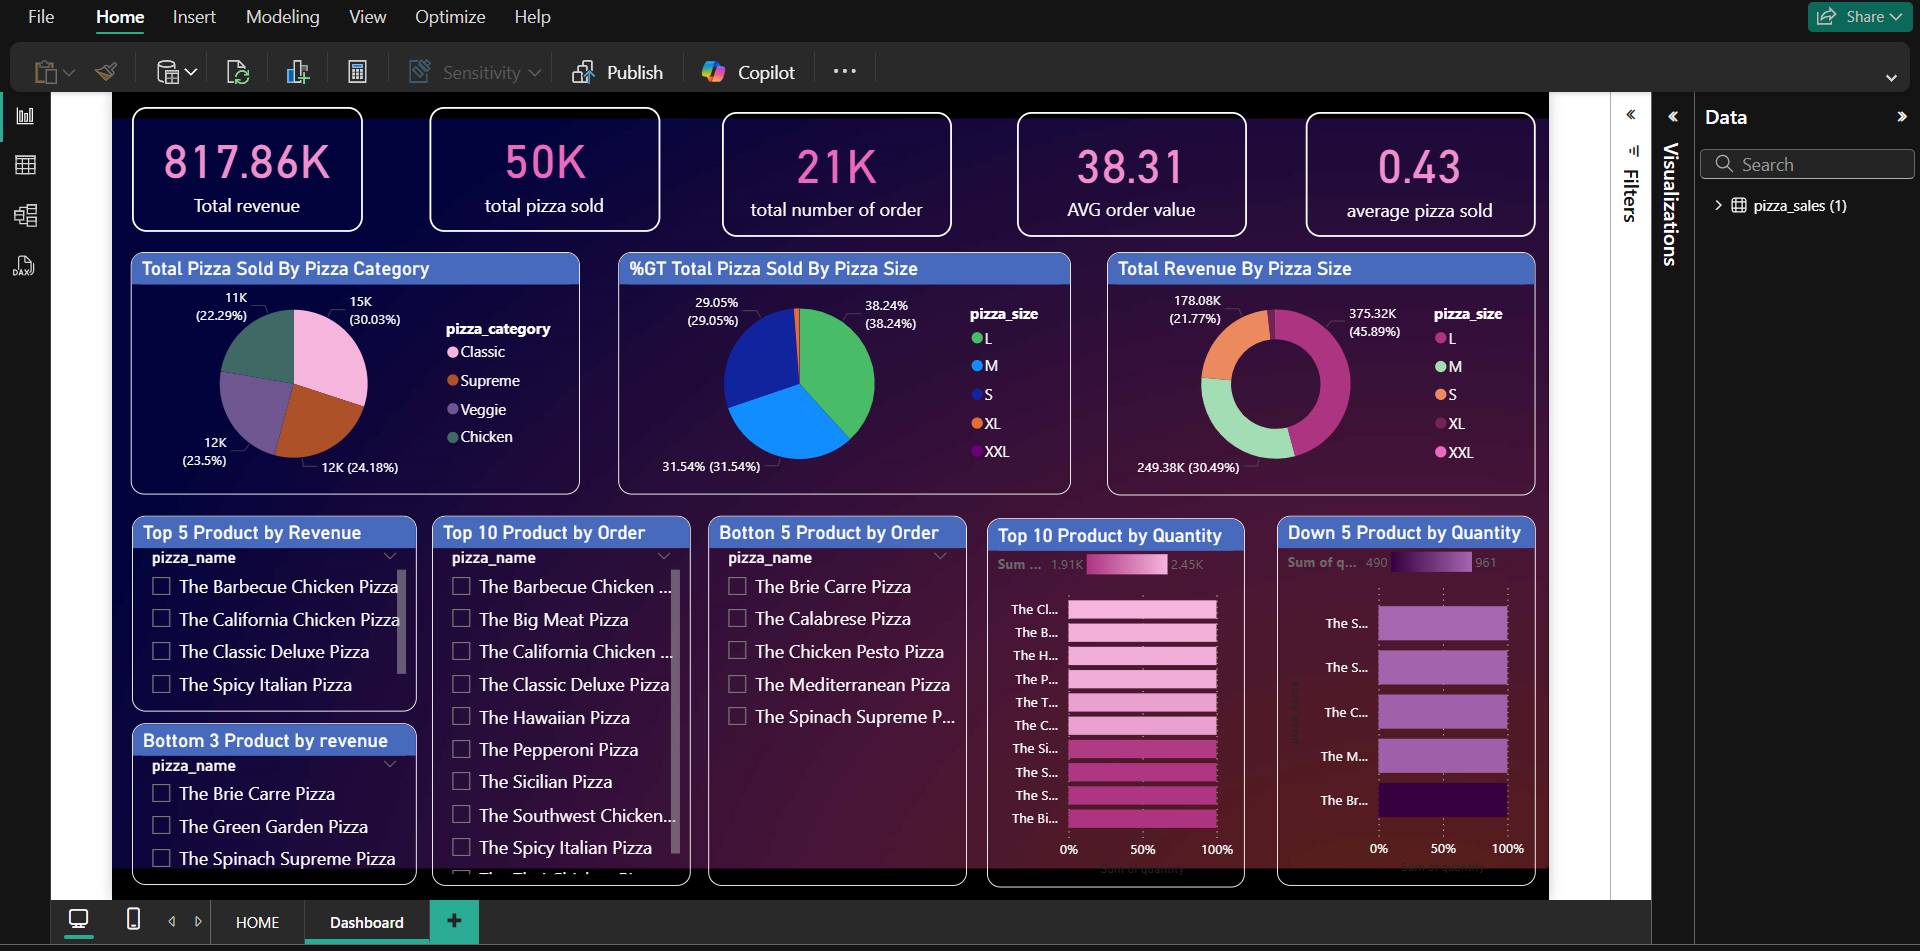

The page's visual inventory and layout, read from the dashboard file:
{"tool":"powerbi","page":{"name":"Dashboard","canvas":[1280,720],"ordinal":1},"visuals":[{"type":"donutChart","title":"Total Revenue By Pizza Size","fields":{"Category":["pizza_sales (1).pizza_size"],"Y":["pizza_sales (1).Total revenue"]},"box":[886.5,142.7,381.5,216.8],"z":0},{"type":"card","fields":{"Values":["pizza_sales (1).Total revenue"]},"box":[17.8,13.7,205.8,111.1],"z":1000},{"type":"card","fields":{"Values":["pizza_sales (1).total pizza sold"]},"box":[282.7,13.7,205.8,111.1],"z":2000},{"type":"card","fields":{"Values":["pizza_sales (1).total number of order"]},"box":[543.4,17.8,205,111],"z":3000},{"type":"card","fields":{"Values":["pizza_sales (1).AVG order value"]},"box":[805.5,17.8,205,111],"z":4000},{"type":"card","fields":{"Values":["pizza_sales (1).average pizza sold"]},"box":[1063.5,17.8,204.5,111.1],"z":5000},{"type":"pieChart","title":"Total Pizza Sold By Pizza Category","fields":{"Y":["pizza_sales (1).total pizza sold"],"Category":["pizza_sales (1).pizza_category"]},"box":[17,143,400,216.2],"z":6000},{"type":"pieChart","title":"%GT Total Pizza Sold By Pizza Size","fields":{"Category":["pizza_sales (1).pizza_size"],"Y":["pizza_sales (1).total pizza sold"]},"box":[451.1,143,403.4,216.2],"z":7000},{"type":"slicer","title":"Top 5 Product by Revenue","fields":{"Values":["pizza_sales (1).pizza_name"]},"box":[17.8,377.4,253.9,174.3],"z":8000},{"type":"slicer","title":"Bottom 3 Product by revenue","fields":{"Values":["pizza_sales (1).pizza_name"]},"box":[17.8,562.6,253.9,144.1],"z":9000},{"type":"hundredPercentStackedBarChart","title":"Top 10 Product by Quantity","fields":{"Y":["Sum(pizza_sales (1).quantity)"],"Category":["pizza_sales (1).pizza_name"]},"box":[779.6,379.6,229.8,328.5],"z":10000},{"type":"hundredPercentStackedBarChart","title":"Down 5 Product by Quantity","fields":{"Y":["Sum(pizza_sales (1).quantity)"],"Category":["pizza_sales (1).pizza_name"]},"box":[1037.4,377.4,230.5,329.3],"z":11000},{"type":"slicer","title":"Top 10 Product by Order","fields":{"Values":["pizza_sales (1).pizza_name"]},"box":[285.4,377.4,230.5,329.3],"z":12000},{"type":"slicer","title":"Botton 5 Product by Order","fields":{"Values":["pizza_sales (1).pizza_name"]},"box":[531,377.4,230.5,329.3],"z":13000}]}

Visuals, with their boxes on the page's 1280x720 design canvas (x1, y1, x2, y2). These are canvas units, not pixel positions in the 1920x951 screenshot, which may show the page scaled, cropped or inside an application window:
"Total Revenue By Pizza Size" donutChart: crop(886, 143, 1268, 360)
card - pizza_sales (1).Total revenue: crop(18, 14, 224, 125)
card - pizza_sales (1).total pizza sold: crop(283, 14, 488, 125)
card - pizza_sales (1).total number of order: crop(543, 18, 748, 129)
card - pizza_sales (1).AVG order value: crop(806, 18, 1010, 129)
card - pizza_sales (1).average pizza sold: crop(1064, 18, 1268, 129)
"Total Pizza Sold By Pizza Category" pieChart: crop(17, 143, 417, 359)
"%GT Total Pizza Sold By Pizza Size" pieChart: crop(451, 143, 854, 359)
"Top 5 Product by Revenue" slicer: crop(18, 377, 272, 552)
"Bottom 3 Product by revenue" slicer: crop(18, 563, 272, 707)
"Top 10 Product by Quantity" hundredPercentStackedBarChart: crop(780, 380, 1009, 708)
"Down 5 Product by Quantity" hundredPercentStackedBarChart: crop(1037, 377, 1268, 707)
"Top 10 Product by Order" slicer: crop(285, 377, 516, 707)
"Botton 5 Product by Order" slicer: crop(531, 377, 762, 707)
